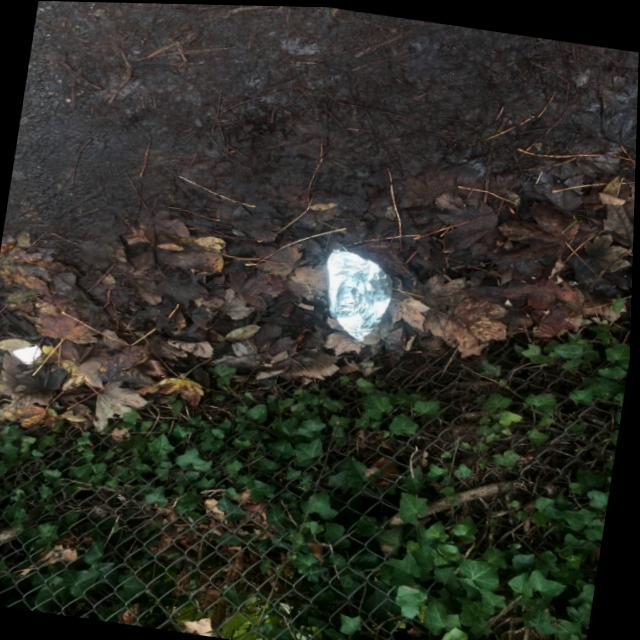Can-Metal: (304, 237, 416, 350)
